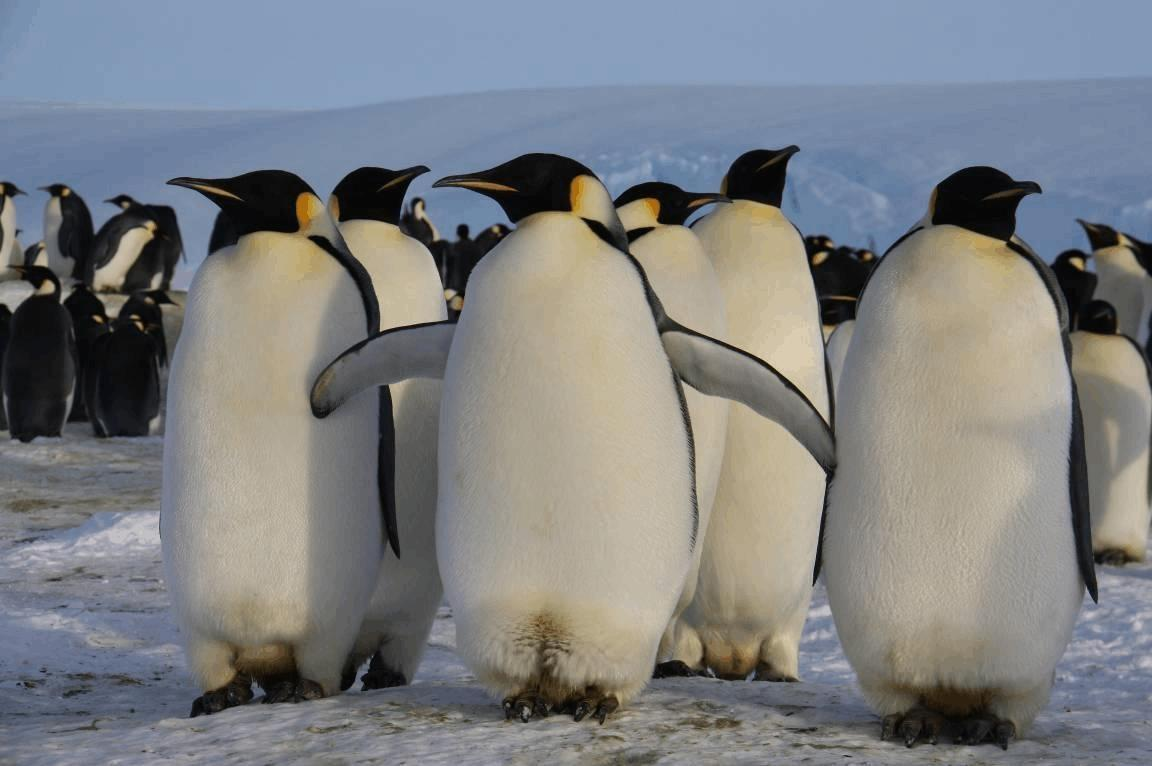Penguin: (311, 152, 834, 717), (824, 167, 1096, 744), (160, 171, 400, 714), (664, 403, 826, 682), (691, 146, 830, 418), (341, 380, 439, 693), (1068, 297, 1150, 563), (329, 166, 448, 332), (614, 182, 724, 338), (2, 264, 76, 443), (1078, 218, 1151, 350), (90, 312, 160, 437), (105, 188, 180, 300), (684, 387, 729, 554), (91, 205, 165, 294), (37, 182, 93, 290), (61, 281, 99, 427), (128, 282, 180, 369), (1049, 248, 1096, 330), (0, 181, 28, 275), (446, 224, 472, 317), (472, 220, 511, 269), (395, 196, 433, 245), (801, 233, 832, 272), (853, 243, 880, 276)
